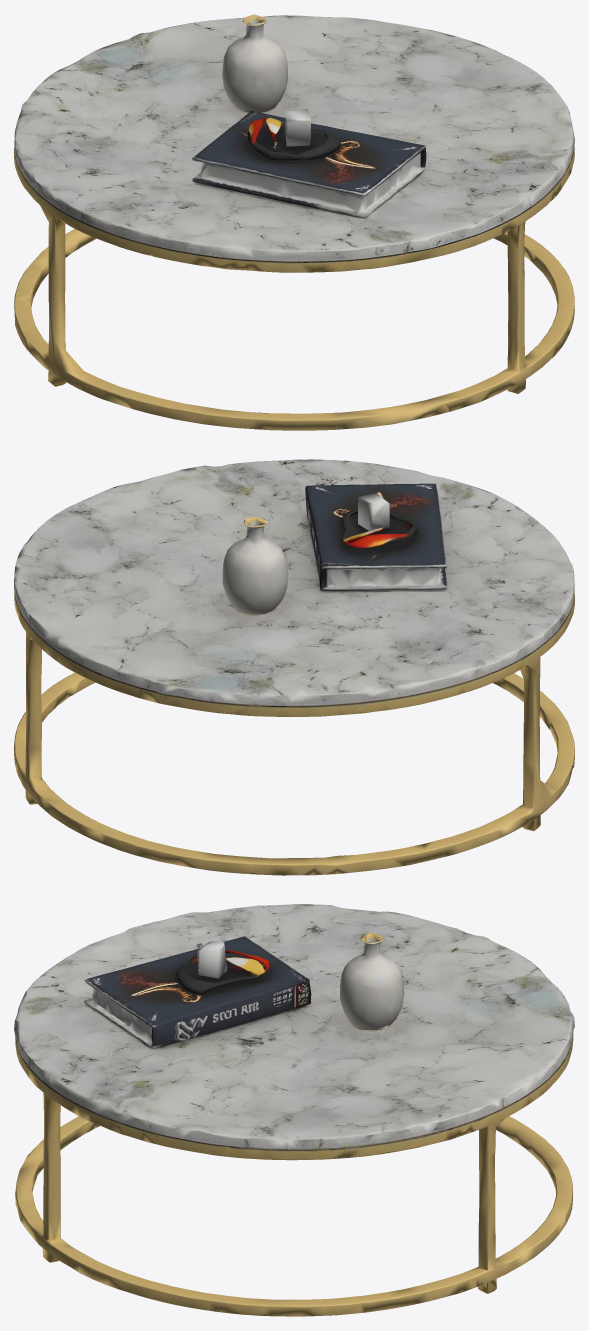
The model's file is coffee_table.glb.
The picture shows the model from 3 angles, top to bottom: view 1: azimuth 30°, elevation 25°; view 2: azimuth 150°, elevation 25°; view 3: azimuth 270°, elevation 25°; orthographic projection.
Parts seen in each view (by area): view 1: tripo_node_d07b726f-0482-4b47-8643-6c98a356a188; view 2: tripo_node_d07b726f-0482-4b47-8643-6c98a356a188; view 3: tripo_node_d07b726f-0482-4b47-8643-6c98a356a188.
Boxes of the visible parts, box(x1,y1,x2,y2) form: tripo_node_d07b726f-0482-4b47-8643-6c98a356a188: box(14, 14, 574, 430); tripo_node_d07b726f-0482-4b47-8643-6c98a356a188: box(14, 459, 574, 875); tripo_node_d07b726f-0482-4b47-8643-6c98a356a188: box(14, 904, 574, 1316).
Bounding box in the file's own units: 0.9947 × 0.5411 × 1.
1 material, 1 textured.
